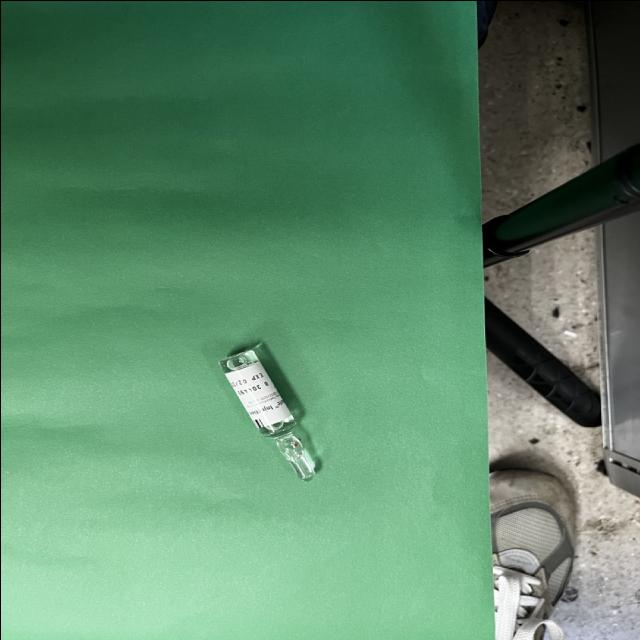Ampoules: (218, 346, 319, 480)
